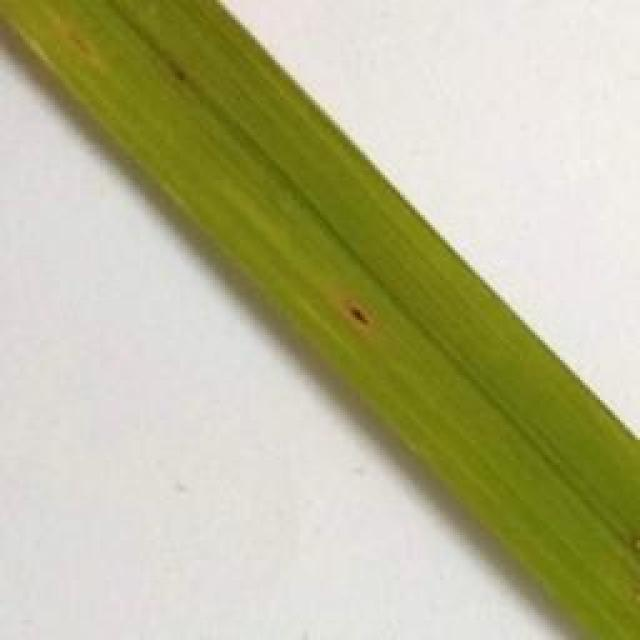Brown_Spot: (326, 257, 381, 346), (44, 10, 116, 71)
